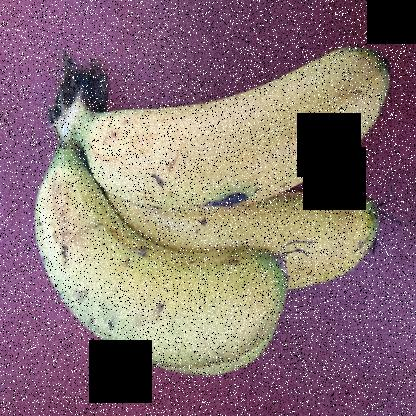ripe: (14, 153, 270, 381), (82, 30, 390, 191), (200, 169, 404, 279)
